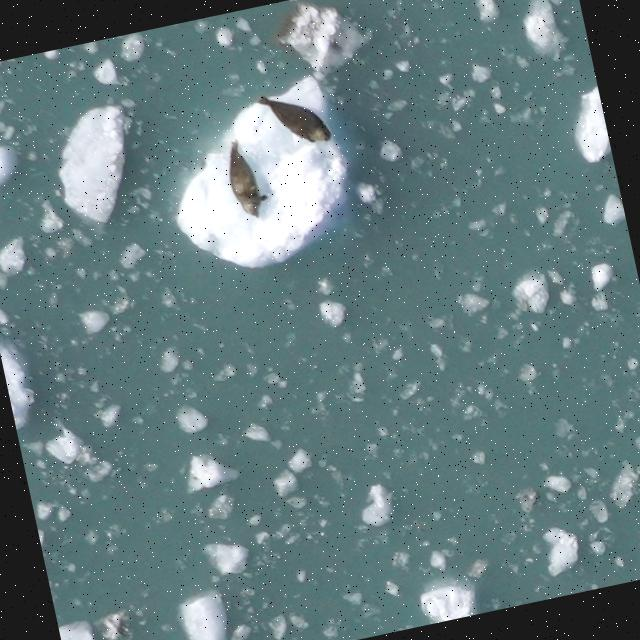seal: (249, 77, 337, 159), (216, 130, 280, 225)
